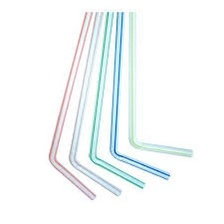drinking_straw: (121, 9, 197, 161), (43, 10, 99, 202)
